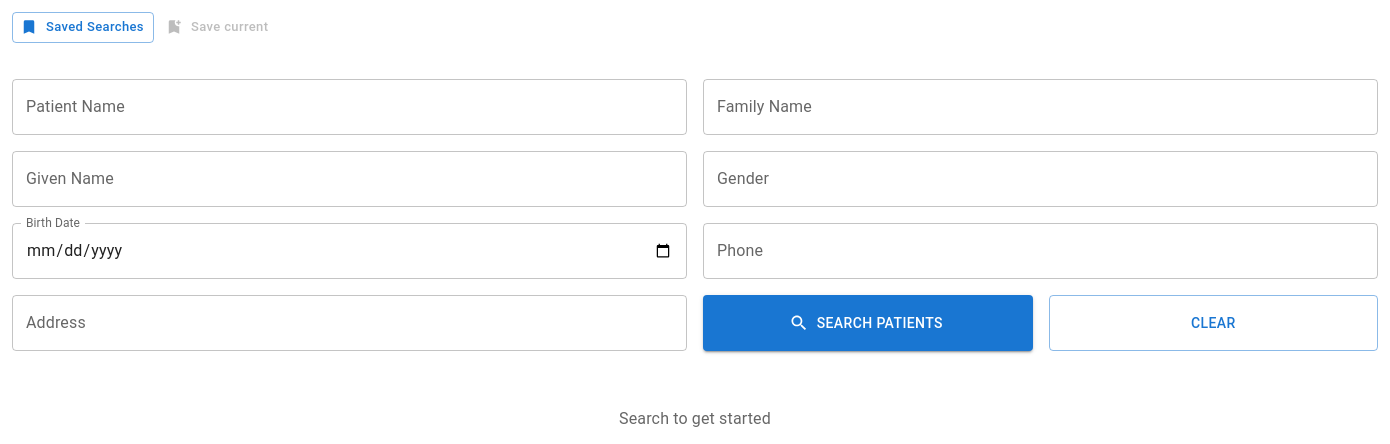
Test: PatientSearch › clears input fields when Clear is clicked
Type "Bob" into the field labelled "Patient Name" at (350, 107), box [12, 79, 687, 135]
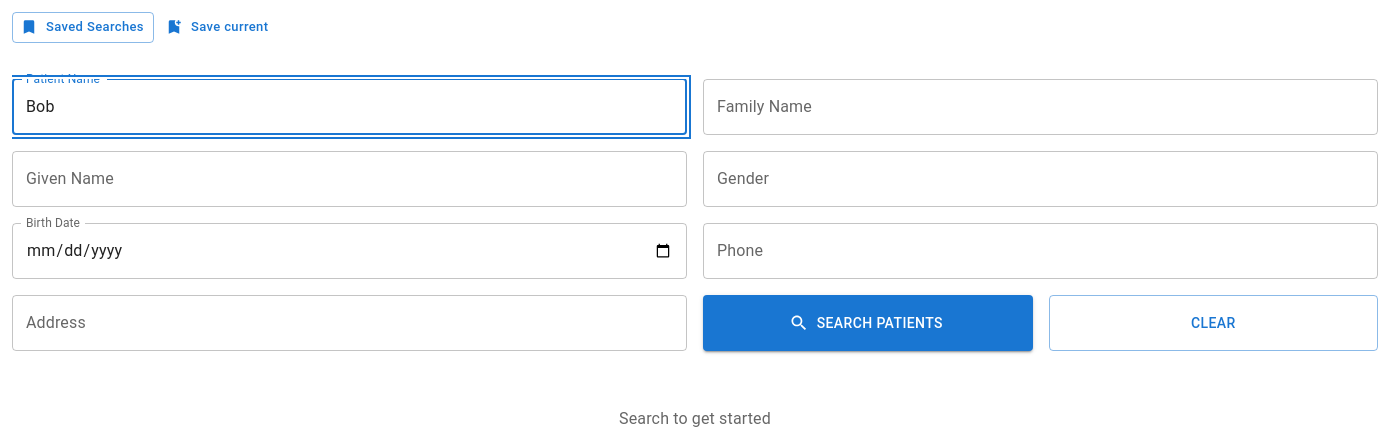
Click the button "Clear" at (1213, 323), box [1048, 295, 1378, 351]
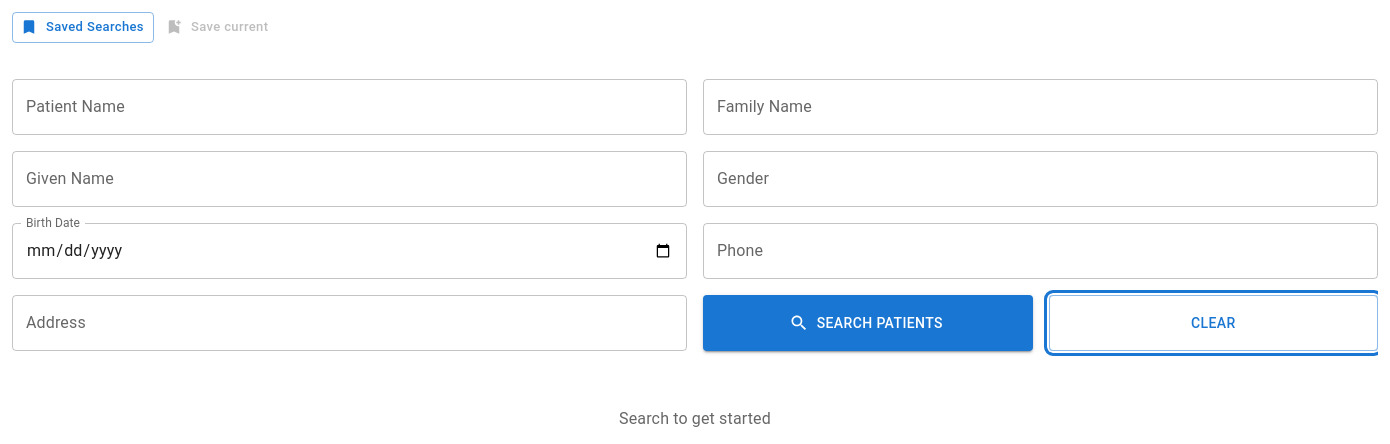
Expected: the field labelled "Patient Name" is empty, [12, 79, 687, 135]
